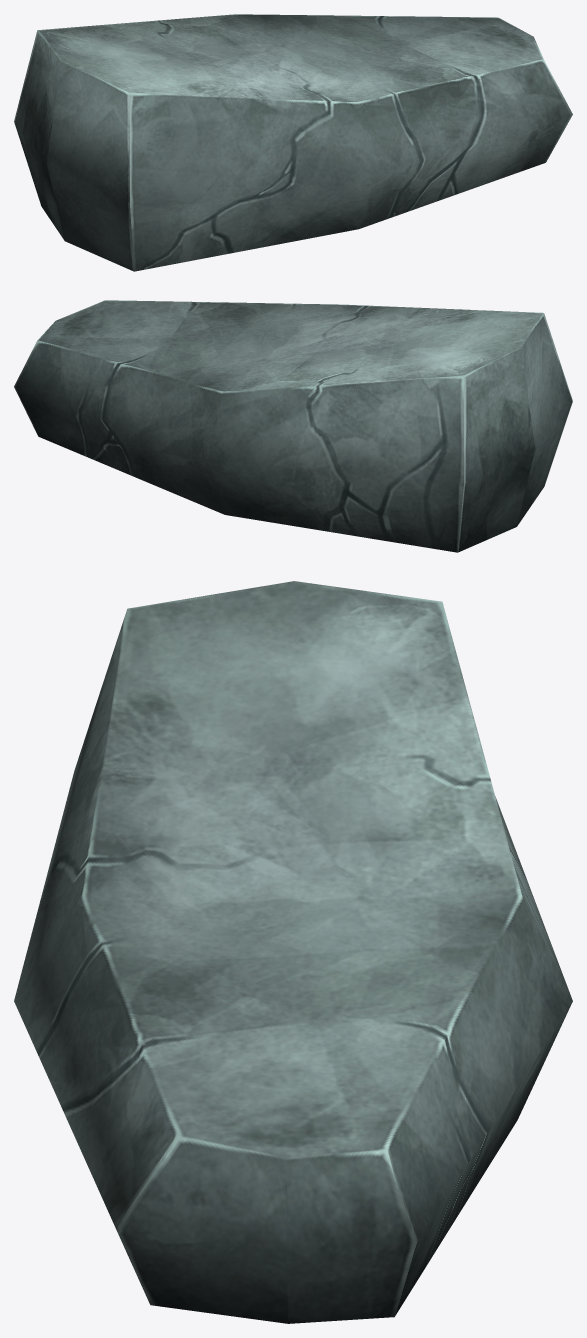
File: Rock 3.fbx
The picture shows the model from 3 angles, top to bottom: view 1: azimuth 30°, elevation 25°; view 2: azimuth 150°, elevation 25°; view 3: azimuth 270°, elevation 25°; orthographic projection. The views are drawn at different scales.
Parts seen in each view (by area): view 1: pPlane2; view 2: pPlane2; view 3: pPlane2.
Part boxes in pixels (x1,y1,x2,y2): pPlane2: (14,14,572,271); pPlane2: (14,300,572,552); pPlane2: (14,581,572,1323).
Size of the model in its own units: 6.45 by 2.24 by 3.45.
